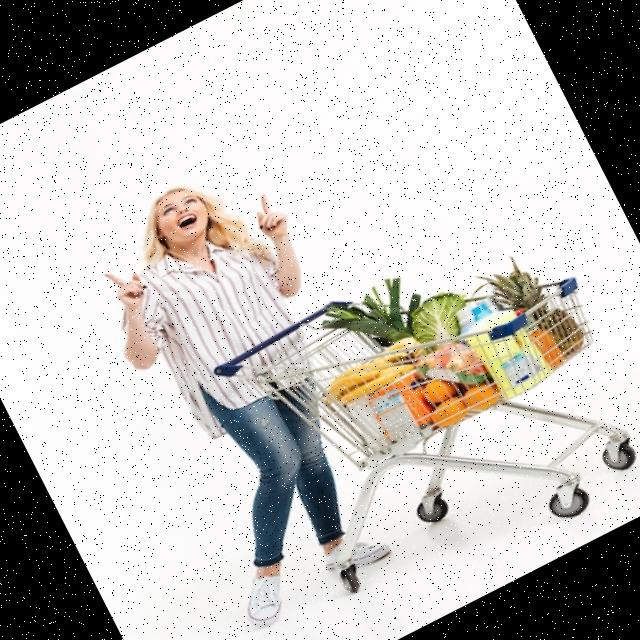Person: (59, 149, 450, 633)
